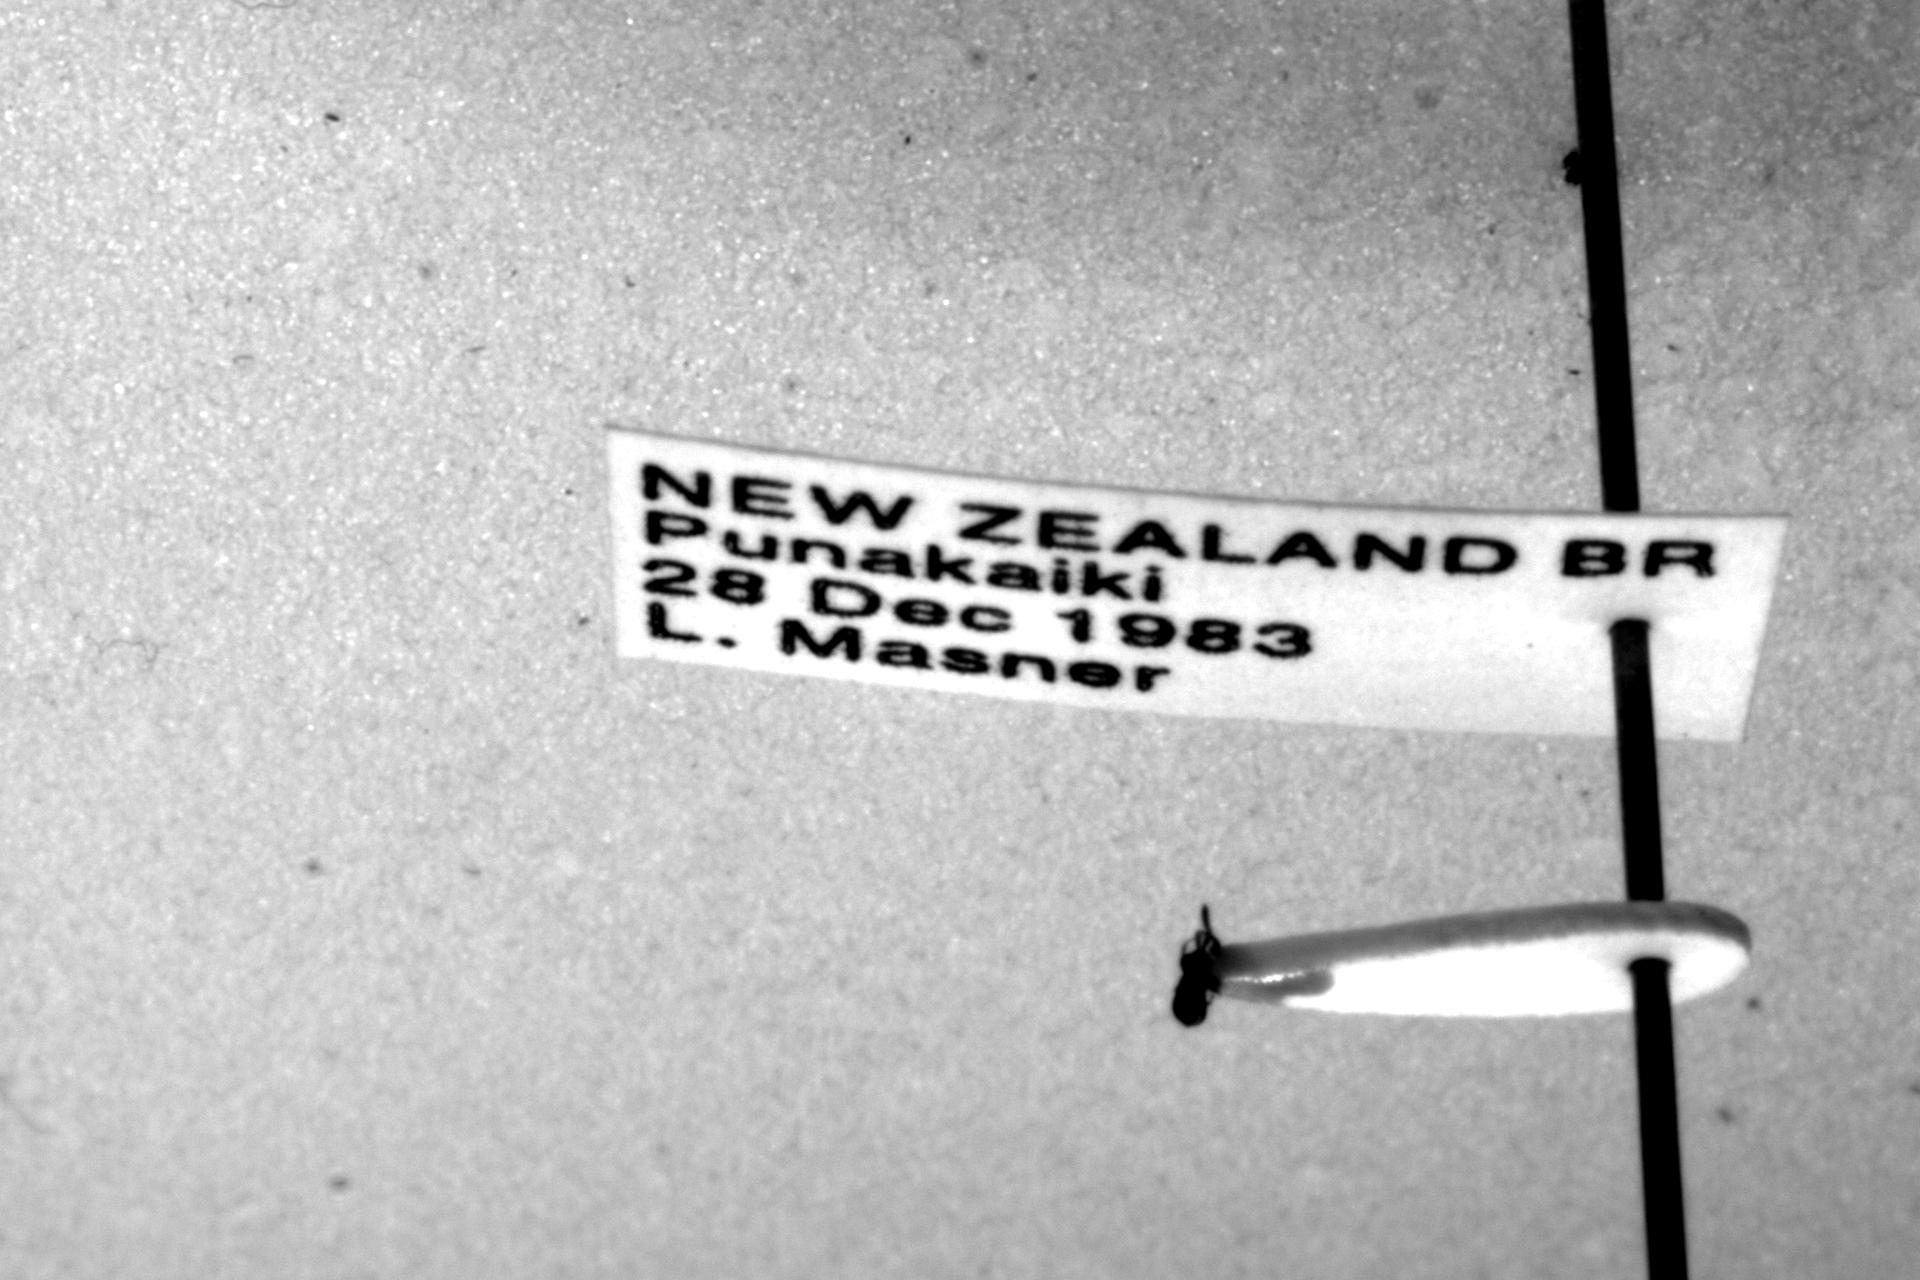typed_label: (607, 431, 1786, 739)
